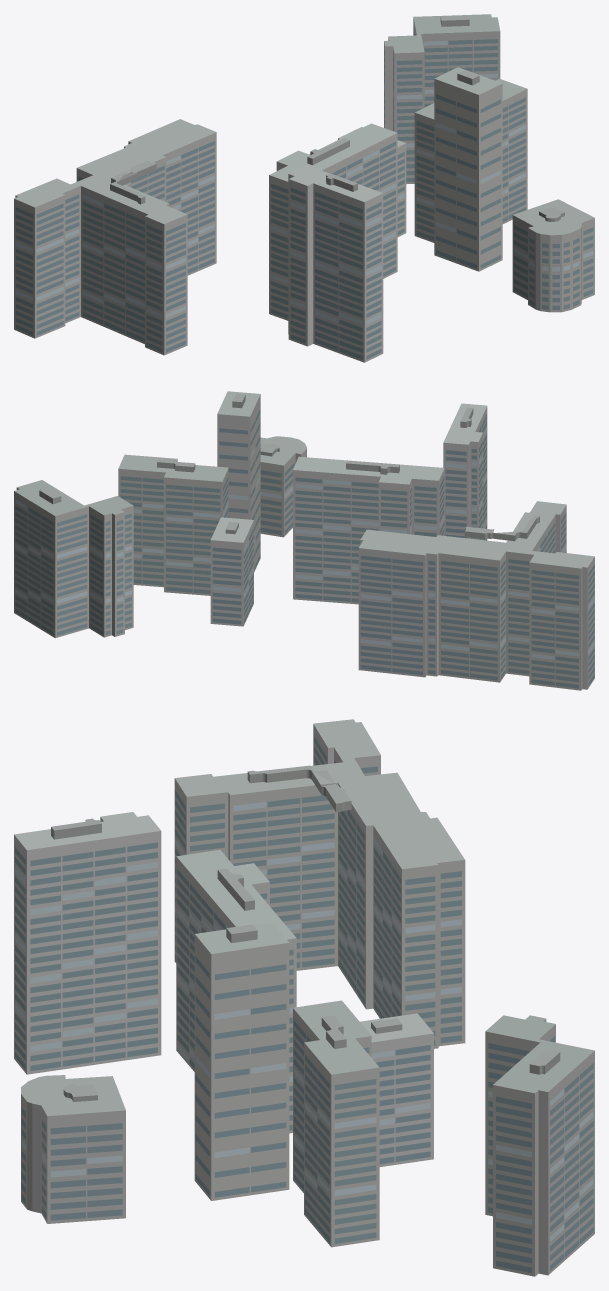
The model's file is apt-a13077702.glb.
3 views of the same model, one above another, from view 1: azimuth 30°, elevation 25°; view 2: azimuth 150°, elevation 25°; view 3: azimuth 270°, elevation 25° (orthographic). The views are drawn at different scales.
Parts seen in each view (by area): view 1: apt-a13077702; view 2: apt-a13077702; view 3: apt-a13077702.
Boxes of the visible parts, bbox=[...] form: apt-a13077702: bbox=[14, 14, 594, 362]; apt-a13077702: bbox=[14, 391, 594, 690]; apt-a13077702: bbox=[14, 719, 594, 1276].
Size of the model in its own units: 213 by 68 by 140.
